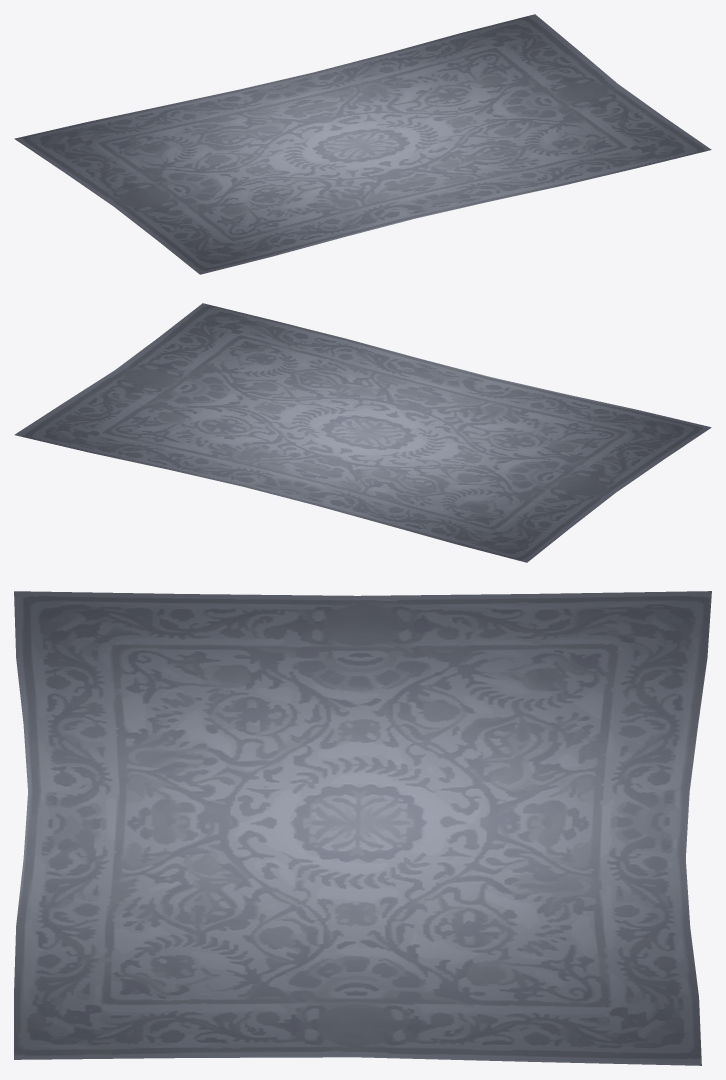
Rendered from Rug.fbx.
3 views of the same model, one above another, from view 1: azimuth 30°, elevation 25°; view 2: azimuth 150°, elevation 25°; view 3: azimuth 270°, elevation 25° (orthographic). The views are drawn at different scales.
Visible parts, largest first — view 1: Rug; view 2: Rug; view 3: Rug.
Boxes of the visible parts, x1,y1,x2,y2 form: Rug: [14, 14, 711, 274]; Rug: [14, 303, 711, 562]; Rug: [14, 591, 711, 1065].
Size of the model in its own units: 693 by 7.01e-05 by 430.
